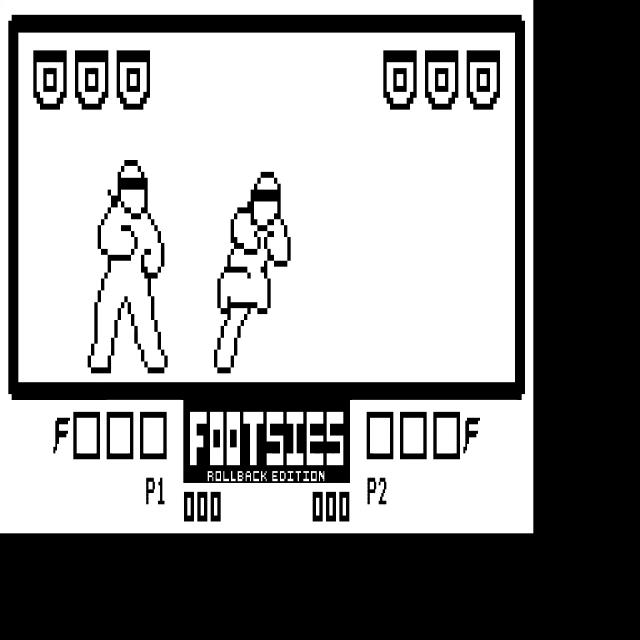Idle: (74, 148, 177, 378)
Special1: (212, 169, 294, 375)
